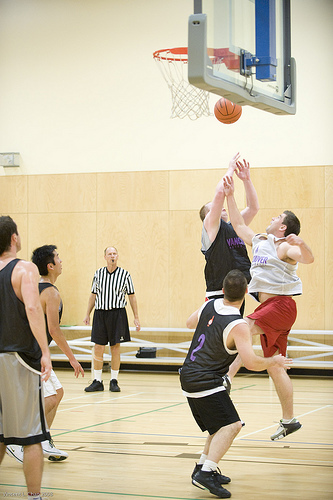basketball: (214, 98, 243, 125)
